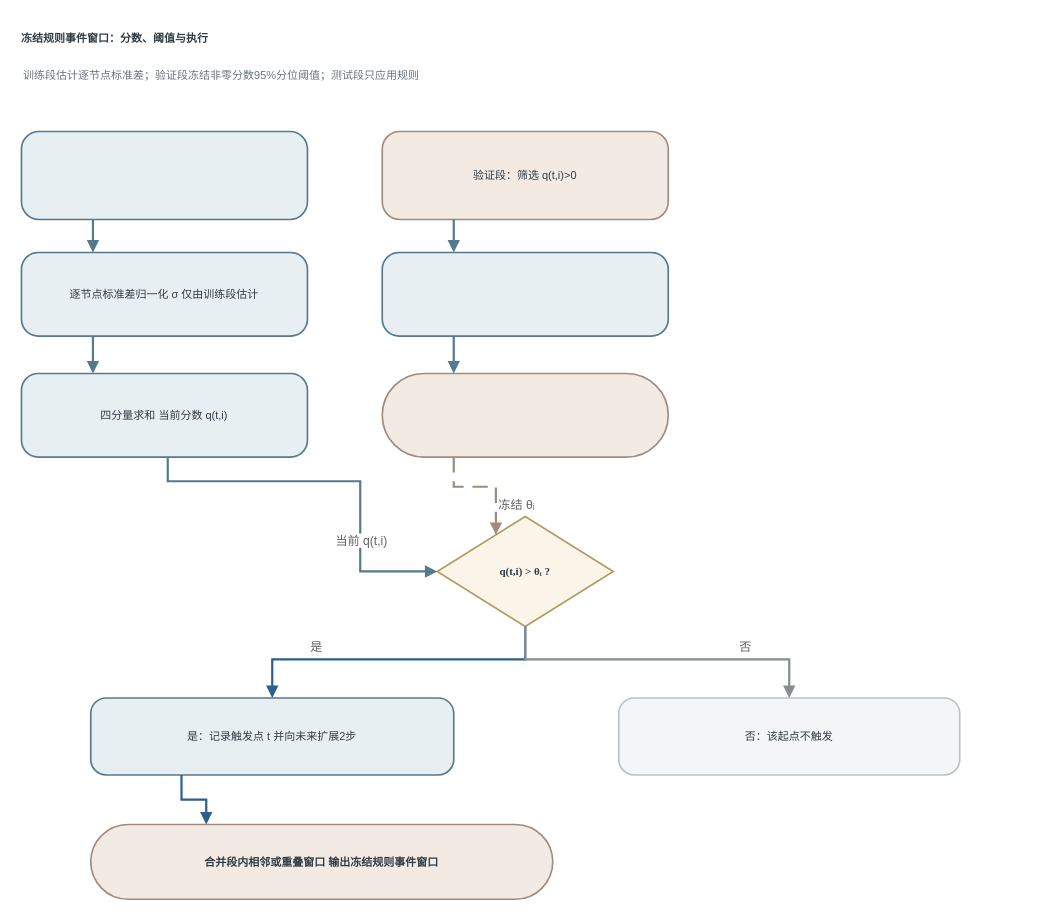
The diagram is 1049 pixels wide and 919 high, and some of its shapes have lost their labels. The shapes that lost their labels are listed below. From the top down, each one's box as (x1, y1, x2, y2) in pixels, then its label:
(20, 130, 308, 220): 接入数 · 离站数 |活跃变化| · |负荷变化|
(381, 251, 669, 336): 逐节点计算95%分位数
(381, 372, 669, 457): 冻结阈值 θᵢ
